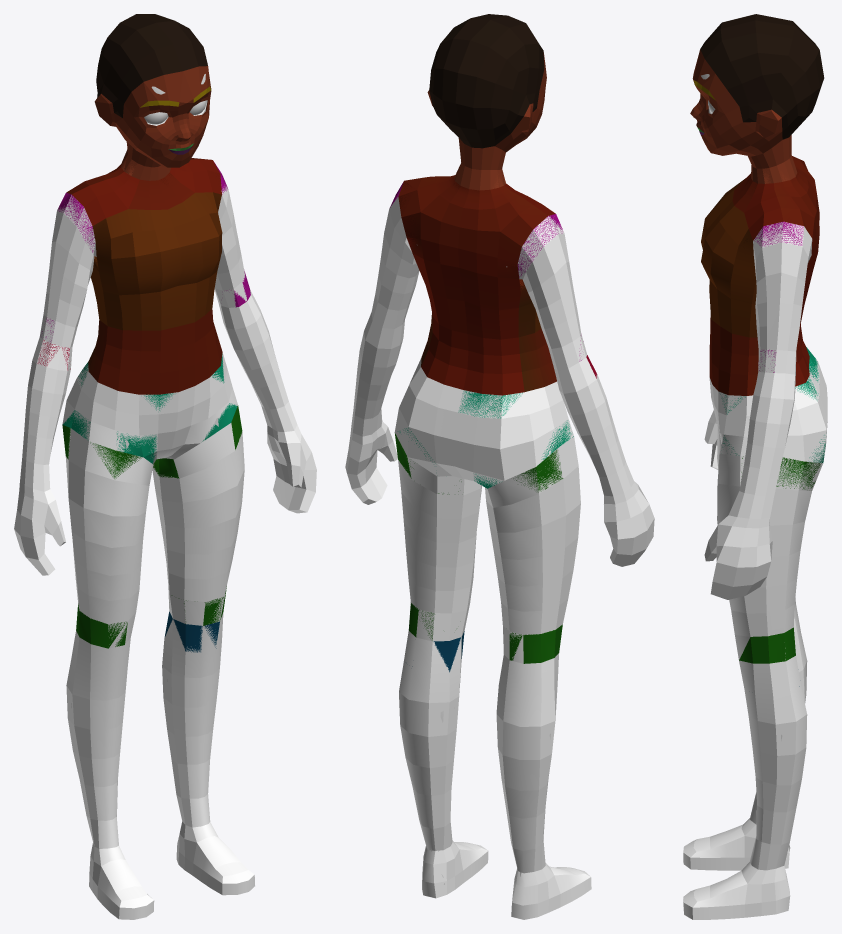
Rendered from RthroSlenderMannequin_With-Cages.fbx.
The picture shows the model from 3 angles, left to right: view 1: azimuth 30°, elevation 25°; view 2: azimuth 150°, elevation 25°; view 3: azimuth 270°, elevation 25°; orthographic projection. The views are drawn at different scales.
Visible parts, largest first — view 1: UpperTorso_OuterCage, Head_OuterCage, RightUpperLeg_OuterCage, LeftUpperLeg_OuterCage, RightLowerLeg_OuterCage, LowerTorso_OuterCage, LeftLowerLeg_OuterCage, ClothingName_InnerCage, RightUpperArm_OuterCage, RightLowerArm_OuterCage, LeftLowerArm_OuterCage, LeftFoot_OuterCage (+4 smaller); view 2: UpperTorso_OuterCage, Head_OuterCage, LowerTorso_OuterCage, RightUpperLeg_OuterCage, LeftUpperLeg_OuterCage, RightLowerLeg_OuterCage, LeftLowerLeg_OuterCage, ClothingName_InnerCage, RightUpperArm_OuterCage, RightLowerArm_OuterCage, LeftLowerArm_OuterCage, LeftUpperArm_OuterCage (+4 smaller); view 3: Head_OuterCage, UpperTorso_OuterCage, LeftLowerLeg_OuterCage, LeftUpperLeg_OuterCage, LeftUpperArm_OuterCage, LeftLowerArm_OuterCage, LowerTorso_OuterCage, ClothingName_InnerCage, LeftHand_OuterCage, LeftFoot_OuterCage, RightFoot_OuterCage, RightLowerLeg_OuterCage (+1 smaller).
Boxes of the visible parts, x1=… form: UpperTorso_OuterCage: x1=66, y1=158, x2=222, y2=394; Head_OuterCage: x1=94, y1=14, x2=211, y2=180; RightUpperLeg_OuterCage: x1=65, y1=428, x2=153, y2=648; LeftUpperLeg_OuterCage: x1=152, y1=423, x2=244, y2=625; RightLowerLeg_OuterCage: x1=66, y1=630, x2=130, y2=848; LowerTorso_OuterCage: x1=62, y1=352, x2=237, y2=464; LeftLowerLeg_OuterCage: x1=162, y1=613, x2=223, y2=827; ClothingName_InnerCage: x1=37, y1=155, x2=250, y2=652; RightUpperArm_OuterCage: x1=40, y1=195, x2=96, y2=347; RightLowerArm_OuterCage: x1=20, y1=337, x2=72, y2=491; LeftLowerArm_OuterCage: x1=218, y1=290, x2=297, y2=431; LeftFoot_OuterCage: x1=176, y1=821, x2=254, y2=895; UpperTorso_OuterCage: x1=398, y1=175, x2=556, y2=395; Head_OuterCage: x1=427, y1=14, x2=546, y2=190; LowerTorso_OuterCage: x1=394, y1=357, x2=573, y2=485; RightUpperLeg_OuterCage: x1=485, y1=436, x2=580, y2=663; LeftUpperLeg_OuterCage: x1=398, y1=456, x2=481, y2=641; RightLowerLeg_OuterCage: x1=496, y1=653, x2=558, y2=873; LeftLowerLeg_OuterCage: x1=399, y1=631, x2=461, y2=850; ClothingName_InnerCage: x1=390, y1=165, x2=597, y2=672; RightUpperArm_OuterCage: x1=518, y1=216, x2=587, y2=370; RightLowerArm_OuterCage: x1=554, y1=358, x2=634, y2=496; LeftLowerArm_OuterCage: x1=351, y1=312, x2=404, y2=436; LeftUpperArm_OuterCage: x1=371, y1=197, x2=419, y2=328; Head_OuterCage: x1=690, y1=14, x2=824, y2=183; UpperTorso_OuterCage: x1=701, y1=156, x2=819, y2=395; LeftLowerLeg_OuterCage: x1=739, y1=656, x2=807, y2=870; LeftUpperLeg_OuterCage: x1=717, y1=453, x2=822, y2=659; LeftUpperArm_OuterCage: x1=753, y1=222, x2=812, y2=374; LeftLowerArm_OuterCage: x1=729, y1=371, x2=795, y2=519; LowerTorso_OuterCage: x1=709, y1=359, x2=827, y2=463; ClothingName_InnerCage: x1=720, y1=162, x2=825, y2=686; LeftHand_OuterCage: x1=704, y1=515, x2=772, y2=599; LeftFoot_OuterCage: x1=683, y1=862, x2=790, y2=919; RightFoot_OuterCage: x1=683, y1=818, x2=790, y2=870; RightLowerLeg_OuterCage: x1=750, y1=604, x2=807, y2=824.
Size of the model in its own units: 2.13 by 6.04 by 0.9136.
